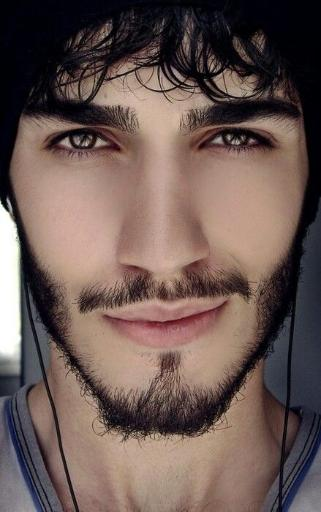left_eye: (193, 123, 280, 154)
left_lip_corner: (215, 292, 236, 321)
right_eye: (42, 122, 121, 160)
right_lip_corner: (95, 307, 123, 331)
